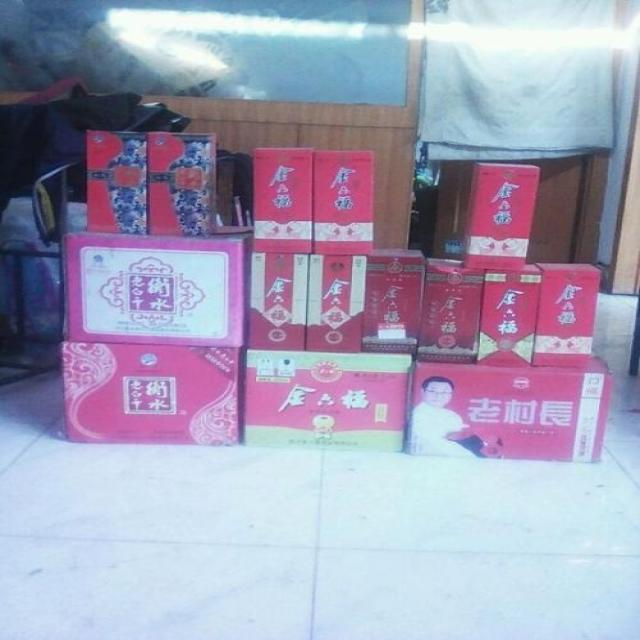box: (404, 352, 614, 462), (61, 231, 251, 346), (63, 339, 246, 446), (242, 350, 413, 452), (458, 162, 540, 270), (146, 132, 218, 237), (416, 258, 486, 362), (476, 263, 543, 365), (361, 248, 425, 354), (252, 147, 314, 254), (314, 149, 375, 254), (246, 252, 310, 351), (305, 254, 369, 352), (86, 130, 146, 234), (534, 263, 602, 354)
